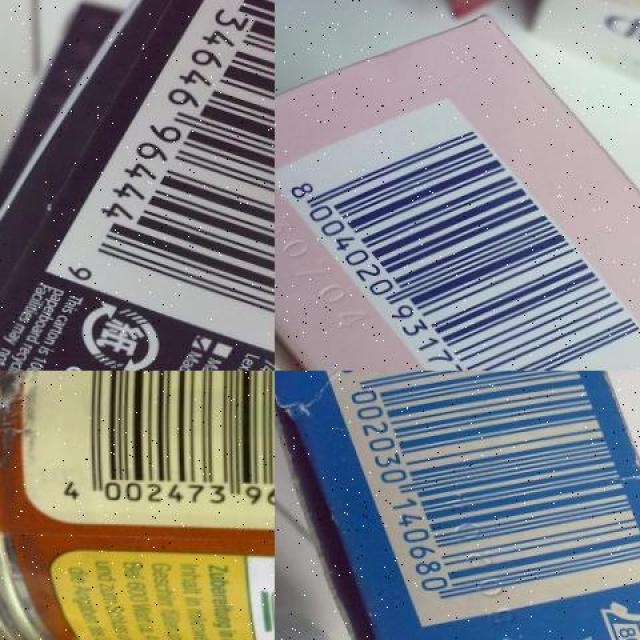Barcode: (274, 92, 640, 370), (36, 0, 275, 371), (317, 370, 640, 630), (51, 371, 274, 516)
